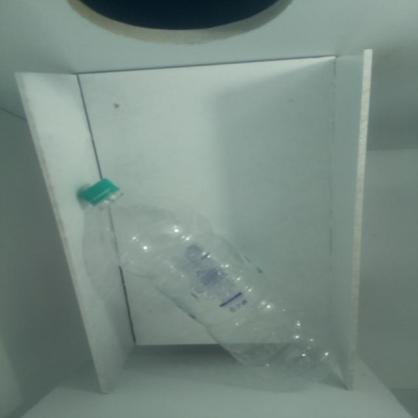bottle: (57, 147, 347, 405)
cap: (78, 178, 119, 212)
